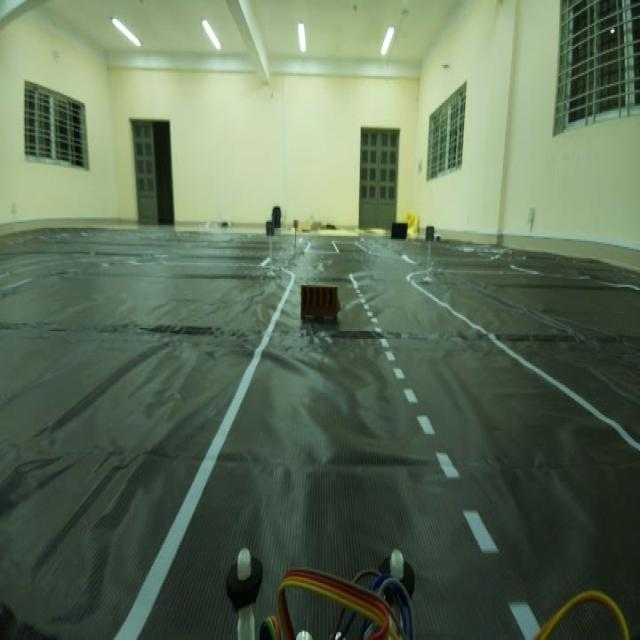roadblock: (298, 278, 346, 327)
